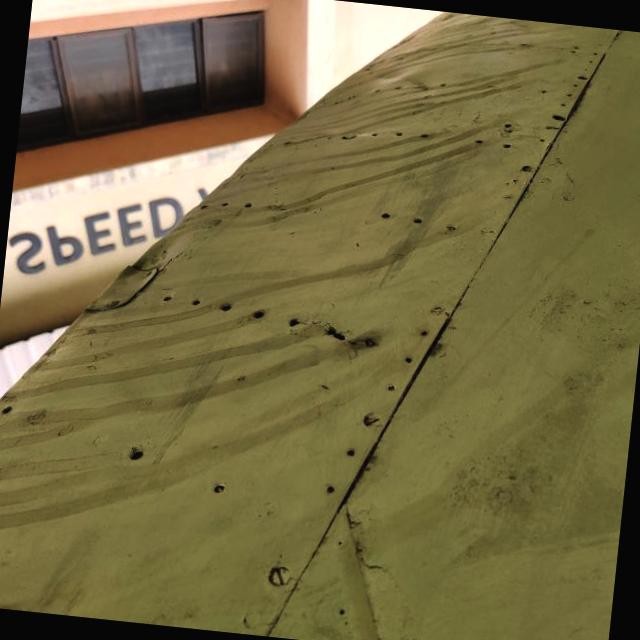crack: (316, 312, 358, 353)
